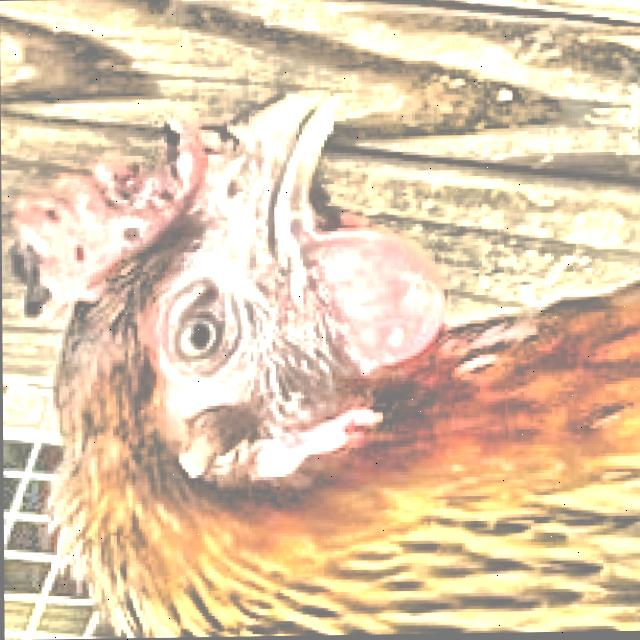Fowlpox: (0, 81, 275, 360)
